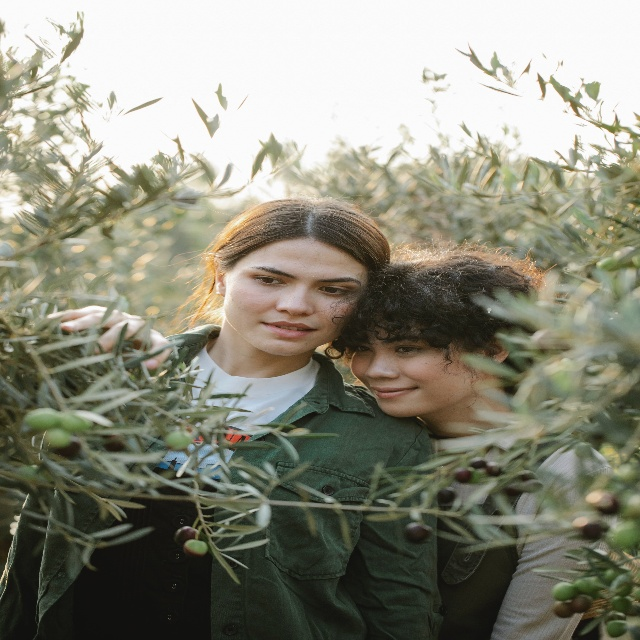Sin_guantes: (47, 304, 171, 369)
